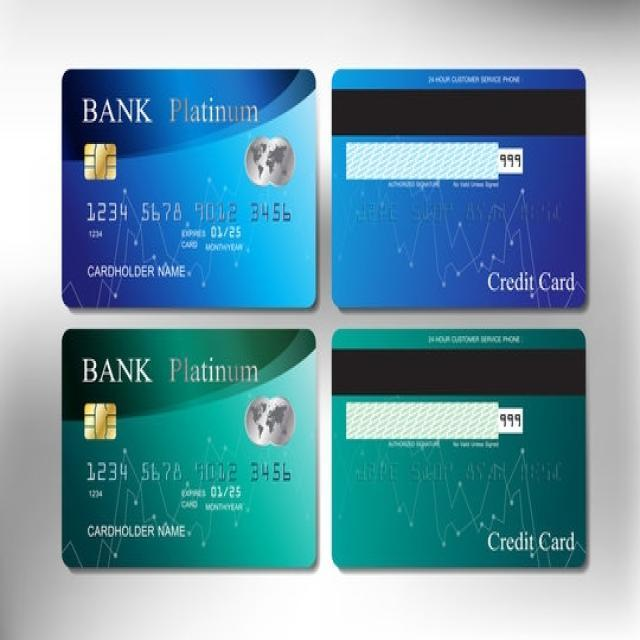payment_card: (330, 327, 588, 572), (60, 327, 317, 571), (330, 67, 588, 310), (60, 67, 317, 310)
